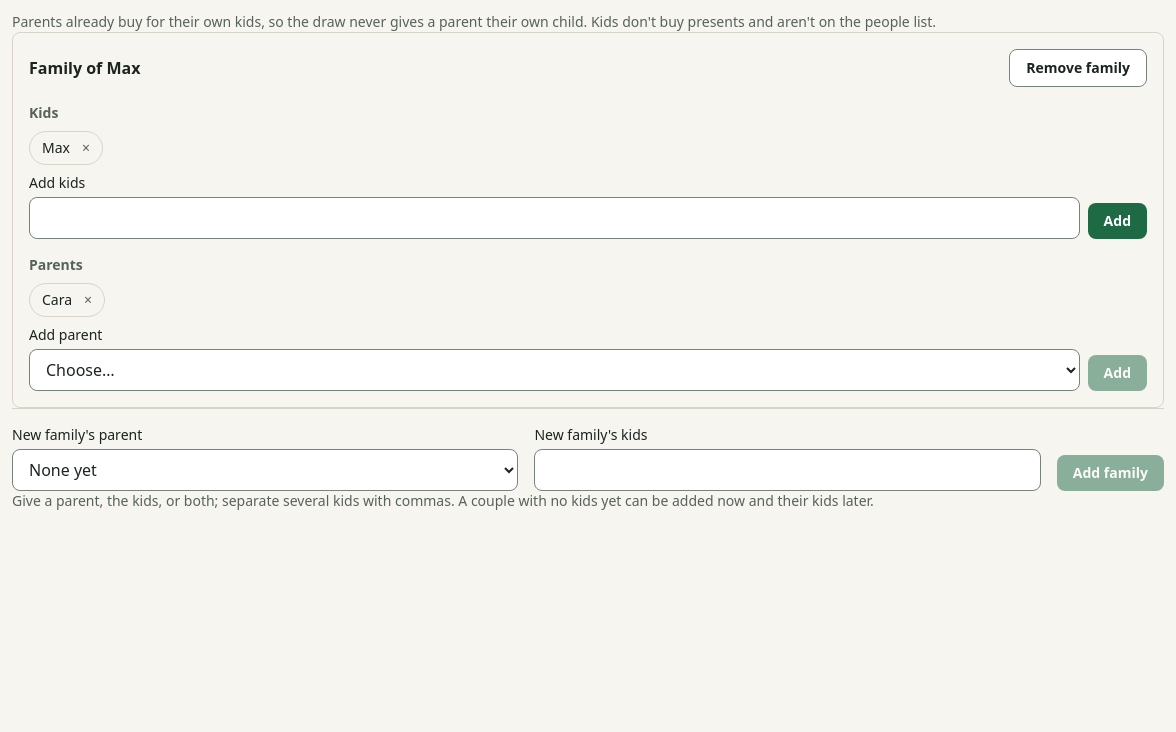
Test: FamilyList › keeps a family with parents when its last child is removed
Click the button named "Remove Max" at (86, 148), box [74,136,98,160]
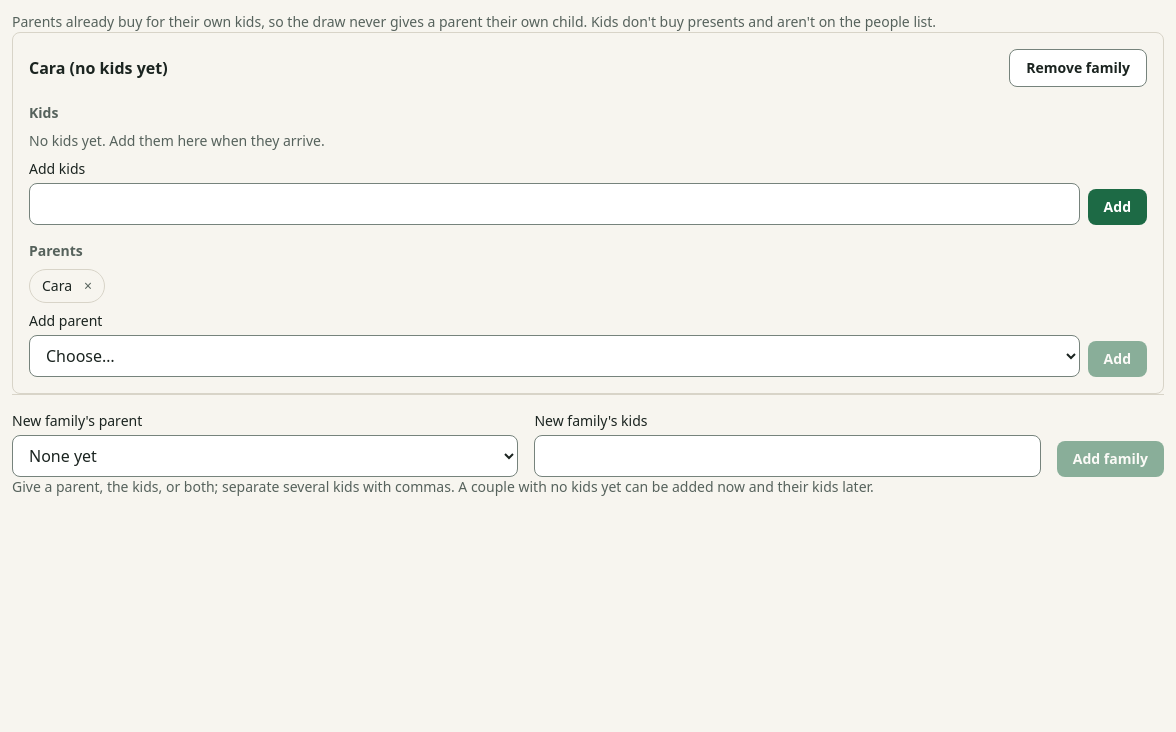
Now the heading "Cara (no kids yet)" is shown, box [29,56,168,80]
